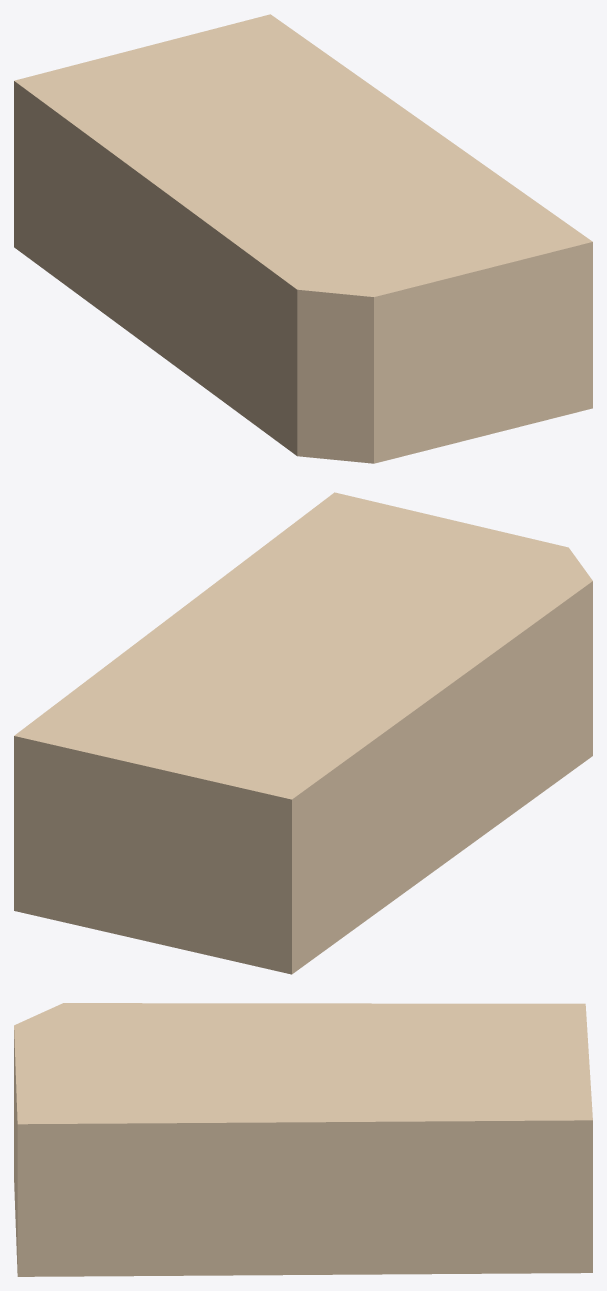
Rendered from terminus-1863.gltf.
3 renders of one model, top to bottom at view 1: azimuth 30°, elevation 25°; view 2: azimuth 150°, elevation 25°; view 3: azimuth 270°, elevation 25°, orthographic. The views are drawn at different scales.
Parts seen in each view (by area): view 1: 1863-described-building; view 2: 1863-described-building; view 3: 1863-described-building.
Part boxes in pixels (x1,y1,x2,y2): 1863-described-building: [14, 14, 592, 463]; 1863-described-building: [14, 492, 592, 974]; 1863-described-building: [14, 1003, 592, 1276].
Size of the model in its own units: 1.53 by 0.9 by 3.09.
